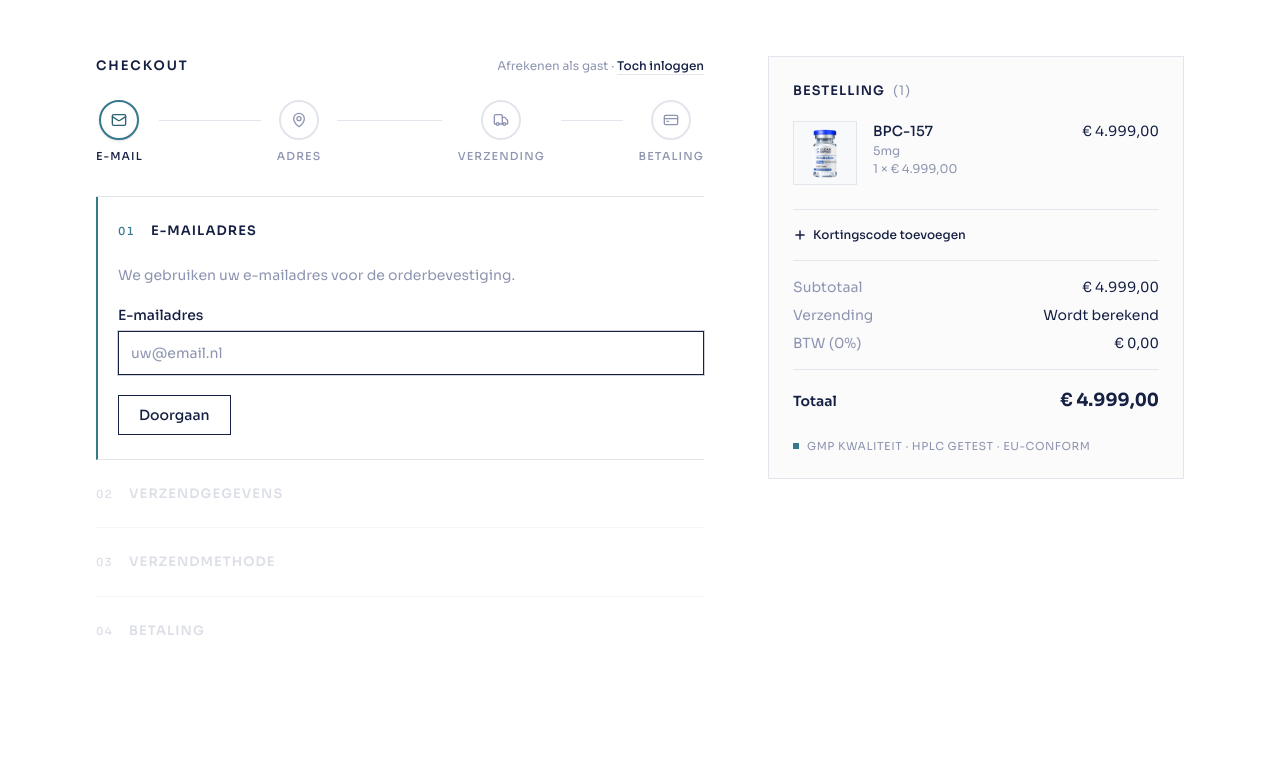
Test: CheckoutPage › shows address step after email completion
The image size is (1280, 770).
In the field with placeholder "uw@email.nl": (411,352) x1=118 y1=330 x2=704 y2=374, type "test@example.com"
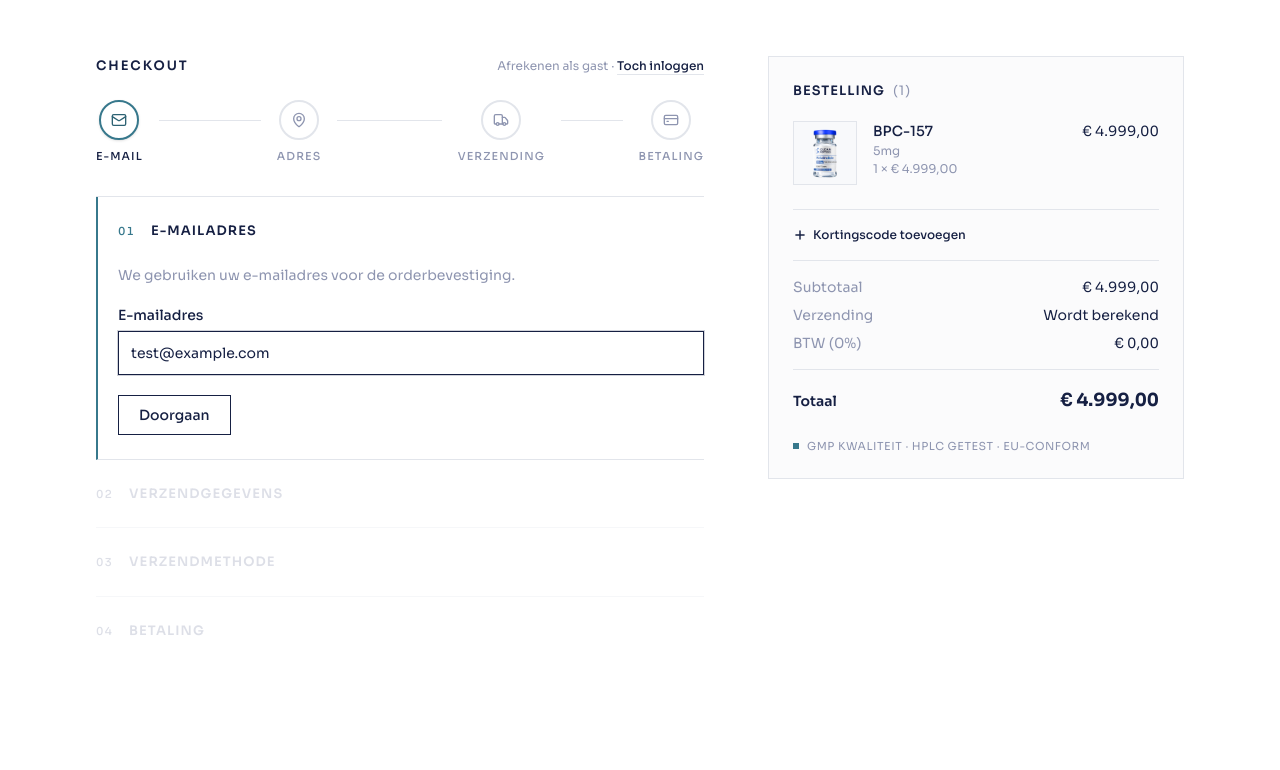
Click the button "Doorgaan": (174,414) x1=118 y1=394 x2=230 y2=434
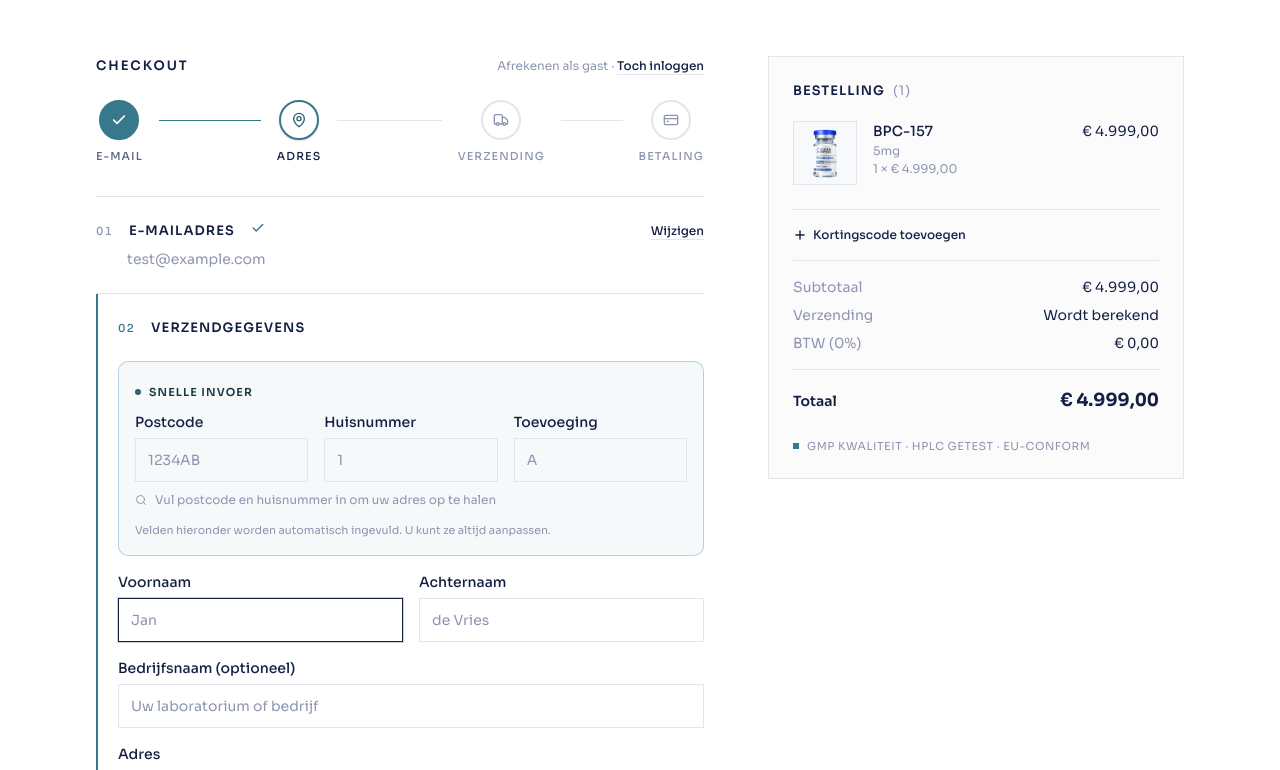
Expected: the heading "Verzendgegevens" is shown, x1=151 y1=318 x2=305 y2=337
Result: the field with placeholder "Jan" is shown at x1=118 y1=598 x2=403 y2=642
Result: the field with placeholder "de Vries" is shown at x1=419 y1=598 x2=704 y2=642
